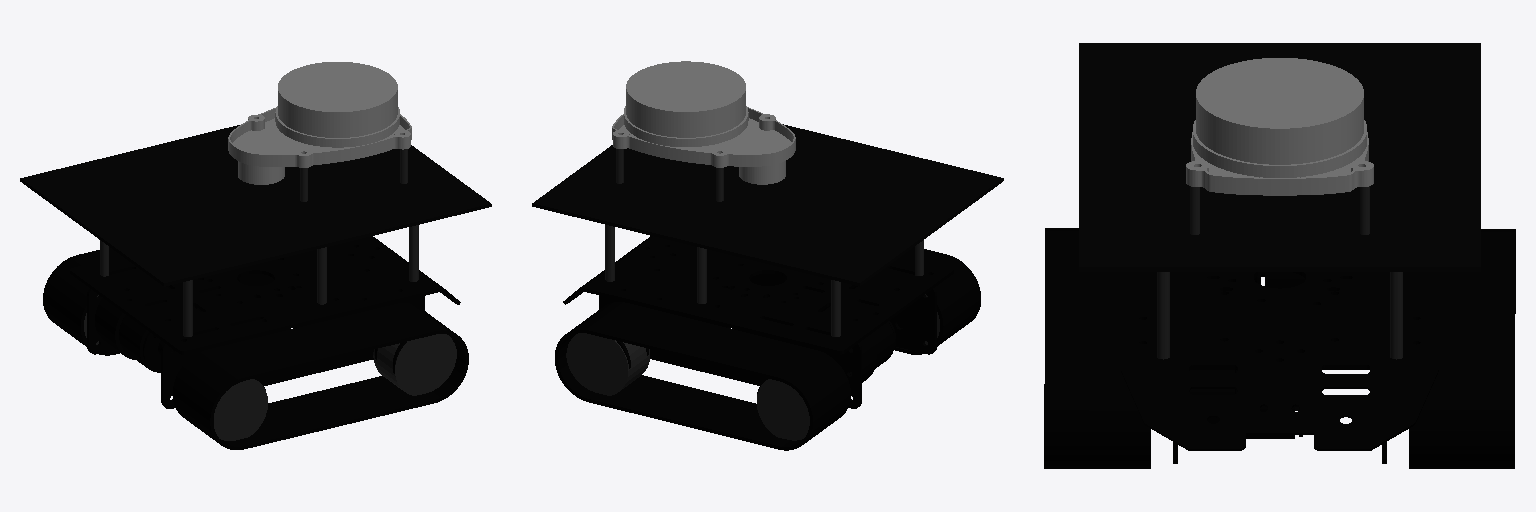
robot.urdf — my_tank:
<?xml version="1.0"?>
<robot name="my_tank">

<!-- ================================================ -->
<!--                   BASE LINK                      -->
<!-- ================================================ -->

    <link name="base_link">
        <visual>
        <origin xyz="0.000 0.000 0.000" rpy="3.14 0.000 1.57"/>
        <geometry>
            <mesh filename="package://tank_description/meshes/new_chassis.stl"
                scale="0.001 0.001 0.001"/>
        </geometry>
        <material name="black">
            <color rgba="0.025 0.025 0.025 1.0"/>
        </material>
        </visual>

        <collision>
            <origin xyz="0.0115 0.000 0.004" rpy="0.000 0.000 0.000"/>
            <geometry>
                <box size="0.1833 0.1776 0.0423"/>
            </geometry>
        </collision>

        <inertial>
            <origin xyz="0.0115 0.000 0.004" rpy="0.000 0.000 0.000"/>
            <mass value="1.02"/>
            <inertia
                ixx="0.00283" ixy="0.0" ixz="0.0"
                iyy="0.00301" iyz="0.0" izz="0.00554"/>
        </inertial>
    </link>


<!-- ================================================ -->
<!--                    IMU LINK                      -->
<!-- ================================================ -->

    <link name="imu_link"/>
    <joint name="imu_joint" type="fixed">
        <parent link="base_link"/>
        <child link="imu_link"/>
        <origin xyz="0.000 0.000 0.078" rpy="0.000 0.000 0.000"/>  <!-- No rotation: differential mode handles 180° mount offset -->
    </joint>




<!-- ================================================ -->
<!--     CHASSIS → PLATFORM STANDOFFS (4 per side)    -->
<!-- ================================================ -->

<!-- ============== LEFT ================== -->

    <link name="standoff_l2">
        <visual>
        <geometry><cylinder radius="0.0025" length="0.05"/></geometry>
        <material name="silver"><color rgba="0.15 0.15 0.15 1.0"/></material>
        </visual>
    </link>
    <joint name="standoff_l2_joint" type="fixed">
        <parent link="base_link"/>
        <child link="standoff_l2"/>
        <origin xyz="-0.067 0.044 0.057"/>
    </joint>

    <link name="standoff_l1">
        <visual>
        <geometry><cylinder radius="0.0025" length="0.05"/></geometry>
        <material name="silver"><color rgba="0.15 0.15 0.15 1.0"/></material>
        </visual>
    </link>
    <joint name="standoff_l1_joint" type="fixed">
        <parent link="base_link"/>
        <child link="standoff_l1"/>
        <origin xyz="0.015 0.044 0.057"/>

    </joint>

        <link name="standoff_l3">
        <visual>
        <geometry><cylinder radius="0.0025" length="0.05"/></geometry>
        <material name="silver"><color rgba="0.15 0.15 0.15 1.0"/></material>
        </visual>
    </link>
    <joint name="standoff_l3_joint" type="fixed">
        <parent link="base_link"/>
        <child link="standoff_l3"/>
        <origin xyz="0.071 0.044 0.057"/>
    </joint>


<!-- ============== RIGHT ================== -->

    <link name="standoff_r2">
        <visual>
        <geometry><cylinder radius="0.0025" length="0.05"/></geometry>
        <material name="silver"><color rgba="0.15 0.15 0.15 1.0"/></material>
        </visual>
    </link>
    <joint name="standoff_r2_joint" type="fixed">
        <parent link="base_link"/>
        <child link="standoff_r2"/>
        <origin xyz="-0.067 -0.044 0.057"/>
    </joint>

    <link name="standoff_r1">
        <visual>
        <geometry><cylinder radius="0.0025" length="0.05"/></geometry>
        <material name="silver"><color rgba="0.15 0.15 0.15 1.0"/></material>
        </visual>
    </link>
    <joint name="standoff_r1_joint" type="fixed">
        <parent link="base_link"/>
        <child link="standoff_r1"/>
        <origin xyz="0.015 -0.044 0.057"/>

    </joint>

        <link name="standoff_r3">
        <visual>
        <geometry><cylinder radius="0.0025" length="0.05"/></geometry>
        <material name="silver"><color rgba="0.15 0.15 0.15 1.0"/></material>
        </visual>
    </link>
    <joint name="standoff_r3_joint" type="fixed">
        <parent link="base_link"/>
        <child link="standoff_r3"/>
        <origin xyz="0.071 -0.044 0.057"/>
    </joint>



    <!-- ================================================ -->
    <!--                    PLATFORM                      -->
    <!-- ================================================ -->
    <link name="platform">
        <visual>
        <geometry>
            <box size="0.2 0.152 0.002"/>
        </geometry>
        <material name="black">
            <color rgba="0.04 0.04 0.04 1.0"/>
        </material>
        </visual>
    </link>
    <joint name="platform_joint" type="fixed">
        <parent link="base_link"/>
        <child link="platform"/>
        <origin xyz="0.000 0.000 0.082"/>
    </joint>



    <!-- ================================================ -->
    <!--      PLATFORM → LIDAR STANDOFFS (4 corners)      -->
    <!-- ================================================ -->
    <link name="lidar_standoff_fl">
        <visual>
        <geometry><cylinder radius="0.002" length="0.026"/></geometry>
        <material name="silver"><color rgba="0.15 0.15 0.15 1.0"/></material>
        </visual>
    </link>
    <joint name="lidar_standoff_fl_joint" type="fixed">
        <parent link="platform"/>
        <child link="lidar_standoff_fl"/>
        <origin xyz="0.072 0.032 0.015"/>
    </joint>

    <link name="lidar_standoff_fr">
        <visual>
        <geometry><cylinder radius="0.002" length="0.026"/></geometry>
        <material name="silver"><color rgba="0.15 0.15 0.15 1.0"/></material>
        </visual>
    </link>
    <joint name="lidar_standoff_fr_joint" type="fixed">
        <parent link="platform"/>
        <child link="lidar_standoff_fr"/>
        <origin xyz="0.072 -0.032 0.015"/>
    </joint>

    <link name="lidar_standoff_rl">
        <visual>
        <geometry><cylinder radius="0.002" length="0.026"/></geometry>
        <material name="silver"><color rgba="0.15 0.15 0.15 1.0"/></material>
        </visual>
    </link>
    <joint name="lidar_standoff_rl_joint" type="fixed">
        <parent link="platform"/>
        <child link="lidar_standoff_rl"/>
        <origin xyz="0.015 0.025 0.015"/>
    </joint>

    <link name="lidar_standoff_rr">
        <visual>
        <geometry><cylinder radius="0.002" length="0.026"/></geometry>
        <material name="silver"><color rgba="0.15 0.15 0.15 1.0"/></material>
        </visual>
    </link>
    <joint name="lidar_standoff_rr_joint" type="fixed">
        <parent link="platform"/>
        <child link="lidar_standoff_rr"/>
        <origin xyz="0.015 -0.025 0.015"/>
    </joint>



<!-- ================================================ -->
<!--                     LIDAR                        -->
<!-- ================================================ -->

    <link name="lidar_link">
        <visual>
        <origin xyz="0.000 0.000 0.000" rpy="0.000 0.000 0.000"/>
        <geometry>
            <mesh filename="package://tank_description/meshes/YDLIDAR_X3Pro.stl"
                scale="0.001 0.001 0.001"/>
        </geometry>
        <material name="blue">
            <color rgba="0.5 0.5 0.5 1.0"/>
        </material>
        </visual>
    </link>
    <joint name="lidar_joint" type="fixed">
        <parent link="platform"/>
        <child link="lidar_link"/>
        <origin xyz="0.050 0.000 0.030" rpy="0.000 0.000 3.1416"/>
    </joint>




<!-- ================================================ -->
<!--                  DRIVE WHEELS                    -->
<!-- ================================================ -->

<!-- ============== LEFT ================== -->
<link name="left_drive">
    <visual>
    <geometry>
        <cylinder radius="0.019" length="0.023"/>
    </geometry>
    <material name="light_grey">
        <color rgba="0.15 0.15 0.15 1.0"/>
    </material>
    </visual>
    <collision>
        <geometry><cylinder radius="0.019" length="0.023"/></geometry>
    </collision>
    <inertial>
        <mass value="0.05"/>
        <inertia
            ixx="0.000016" ixy="0.0" ixz="0.0"
            iyy="0.000016" iyz="0.0" izz="0.000016"/>
    </inertial>
</link>
<joint name="left_drive_joint" type="continuous">
    <parent link="base_link"/>
    <child link="left_drive"/>
    <origin xyz="-0.0579 0.068 0.001" rpy="-1.5708 0.000 0.000"/>
    <axis xyz="0 0 1"/>
</joint>


<!-- ============== RIGHT ================== -->
<link name="right_drive">
    <visual>
    <geometry>
        <cylinder radius="0.019" length="0.023"/>
    </geometry>
    <material name="light_grey">
        <color rgba="0.15 0.15 0.15 1.0"/>
    </material>
    </visual>
    <collision>
        <geometry><cylinder radius="0.019" length="0.023"/></geometry>
    </collision>
    <inertial>
        <mass value="0.05"/>
        <inertia
            ixx="0.000016" ixy="0.0" ixz="0.0"
            iyy="0.000016" iyz="0.0" izz="0.000016"/>
    </inertial>
</link>
<joint name="right_drive_joint" type="continuous">
    <parent link="base_link"/>
    <child link="right_drive"/>
    <origin xyz="0.058 -0.068 0.001" rpy="-1.5708 0.000 0.000"/>
    <axis xyz="0 0 1"/>
</joint>



<!-- ================================================ -->
<!--                 BEARING WHEELS                   -->
<!-- ================================================ -->

<!-- ============== LEFT ================== -->
<link name="left_bearing">
    <visual>
    <geometry>
        <cylinder radius="0.019" length="0.023"/>
    </geometry>
    <material name="light_grey">
        <color rgba="0.15 0.15 0.15 1.0"/>
    </material>
    </visual>
    <collision>
        <geometry><cylinder radius="0.019" length="0.023"/></geometry>
    </collision>
    <inertial>
        <mass value="0.05"/>
        <inertia
            ixx="0.000016" ixy="0.0" ixz="0.0"
            iyy="0.000016" iyz="0.0" izz="0.000016"/>
    </inertial>
</link>
<joint name="left_bearing_joint" type="continuous">
    <parent link="base_link"/>
    <child link="left_bearing"/>
    <origin xyz="0.058 0.0686 0.001" rpy="-1.5708 0.000 0.000"/>
    <axis xyz="0 0 1"/>
</joint>

<!-- ============== RIGHT ================== -->
<link name="right_bearing">
    <visual>
    <geometry>
        <cylinder radius="0.019" length="0.023"/>
    </geometry>
    <material name="light_grey">
        <color rgba="0.15 0.15 0.15 1.0"/>
    </material>
    </visual>
    <collision>
        <geometry><cylinder radius="0.019" length="0.023"/></geometry>
    </collision>
    <inertial>
        <mass value="0.05"/>
        <inertia
            ixx="0.000016" ixy="0.0" ixz="0.0"
            iyy="0.000016" iyz="0.0" izz="0.000016"/>
    </inertial>
</link>
<joint name="right_bearing_joint" type="continuous">
    <parent link="base_link"/>
    <child link="right_bearing"/>
    <origin xyz="-0.058 -0.069 0.001" rpy="-1.5708 0.000 0.000"/>
    <axis xyz="0 0 1"/>
</joint>



<!-- ================================================ -->
<!--              ULTRASONIC SENSORS                  -->
<!-- ================================================ -->

<!-- ============== LEFT ================== -->
<link name="ultrasonic_left_link">
    <visual>
        <origin xyz="0.000 0.000 0.000" rpy="4.7124 0.000 0.000"/>
        <geometry>
            <mesh filename="package://tank_description/meshes/ultrasonic_sensor.stl"
                scale="0.001 0.001 0.001"/>
        </geometry>
        <material name="dark">
            <color rgba="1 1 1 1.0"/>
        </material>
    </visual>
</link>
<joint name="ultrasonic_left_joint" type="fixed">
    <parent link="base_link"/>
    <child link="ultrasonic_left_link"/>
    <origin xyz="0.01 0.05 0.042" rpy="0.000 0.000 0.000"/>
</joint>


<!-- ============== RIGHT ================== -->
<link name="ultrasonic_right_link">
    <visual>
        <origin xyz="0.000 0.000 0.000" rpy="4.7124 0.000 0.000"/>
        <geometry>
            <mesh filename="package://tank_description/meshes/ultrasonic_sensor.stl"
                scale="0.001 0.001 0.001"/>
        </geometry>
        <material name="dark">
            <color rgba="1 1 1 1.0"/>
        </material>
    </visual>
</link>
<joint name="ultrasonic_right_joint" type="fixed">
    <parent link="base_link"/>
    <child link="ultrasonic_right_link"/>
    <origin xyz="0.01 -0.05 0.042" rpy="0.000 0.000 3.1416"/>
</joint>


<!-- ============== BACK ================== -->
<link name="ultrasonic_back_link">
    <visual>
        <origin xyz="0.000 0.000 0.000" rpy="4.7124 0.000 0.000"/>
        <geometry>
            <mesh filename="package://tank_description/meshes/ultrasonic_sensor.stl"
                scale="0.001 0.001 0.001"/>
        </geometry>
        <material name="dark">
            <color rgba="1 1 1 1.0"/>
        </material>
    </visual>
</link>
<joint name="ultrasonic_back_joint" type="fixed">
    <parent link="base_link"/>
    <child link="ultrasonic_back_link"/>
    <origin xyz="-0.085 0.000 0.012" rpy="0.000 0.000 1.5708"/>
</joint>

<!-- ============== FRONT ================== -->
<link name="ultrasonic_front_link">
    <visual>
        <origin xyz="0.000 0.000 0.000" rpy="4.7124 0.000 0.000"/>
        <geometry>
            <mesh filename="package://tank_description/meshes/ultrasonic_sensor.stl"
                scale="0.001 0.001 0.001"/>
        </geometry>
        <material name="dark">
            <color rgba="1 1 1 1.0"/>
        </material>
    </visual>
</link>
<joint name="ultrasonic_front_joint" type="fixed">
    <parent link="base_link"/>
    <child link="ultrasonic_front_link"/>
    <origin xyz="0.08 0.000 0.042" rpy="0.000 0.000 -1.5708"/>
</joint>








</robot>

--- Render facts (derived) ---
3 views of the same robot in one strip: view 1: azimuth 30°, elevation 25°; view 2: azimuth 150°, elevation 25°; view 3: azimuth 270°, elevation 25° (orthographic).
Model my_tank with 22 links and 21 joints (4 continuous, 17 fixed), rooted at base_link, posed all joints at 0.
Links seen in each view (by area): view 1: base_link, platform, lidar_link, right_drive, right_bearing, standoff_r1, standoff_r2, standoff_r3; view 2: base_link, platform, lidar_link, left_bearing, left_drive, standoff_l2, standoff_l1, standoff_l3; view 3: base_link, platform, lidar_link, standoff_l3, standoff_r3.
Link boxes in pixels (<box>): base_link: <box>43,236,468,449</box>; platform: <box>20,125,491,286</box>; lidar_link: <box>228,62,411,184</box>; right_drive: <box>373,334,456,395</box>; right_bearing: <box>214,379,267,440</box>; standoff_r1: <box>317,247,326,304</box>; standoff_r2: <box>183,280,192,336</box>; standoff_r3: <box>409,225,418,281</box>; base_link: <box>555,236,980,450</box>; platform: <box>532,124,1003,286</box>; lidar_link: <box>612,61,795,184</box>; left_bearing: <box>566,333,649,395</box>; left_drive: <box>757,379,809,440</box>; standoff_l2: <box>831,280,840,336</box>; standoff_l1: <box>697,247,706,303</box>; standoff_l3: <box>605,225,614,281</box>; base_link: <box>1044,228,1515,468</box>; platform: <box>1079,43,1480,271</box>; lidar_link: <box>1186,58,1373,195</box>; standoff_l3: <box>1390,272,1402,359</box>; standoff_r3: <box>1157,272,1169,359</box>.
Bounding box of the posed robot: 0.2033 × 0.1777 × 0.1508 m (x, y, z).
2 mesh visuals loaded from 3 distinct referenced files (2 binary STL); not drawn: 4 (reference not matched to a file when rendering).
